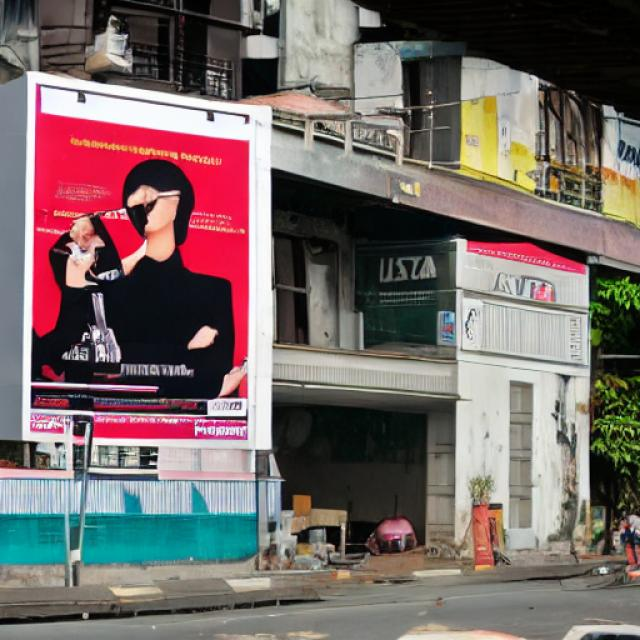Billboard: (23, 71, 263, 454)
